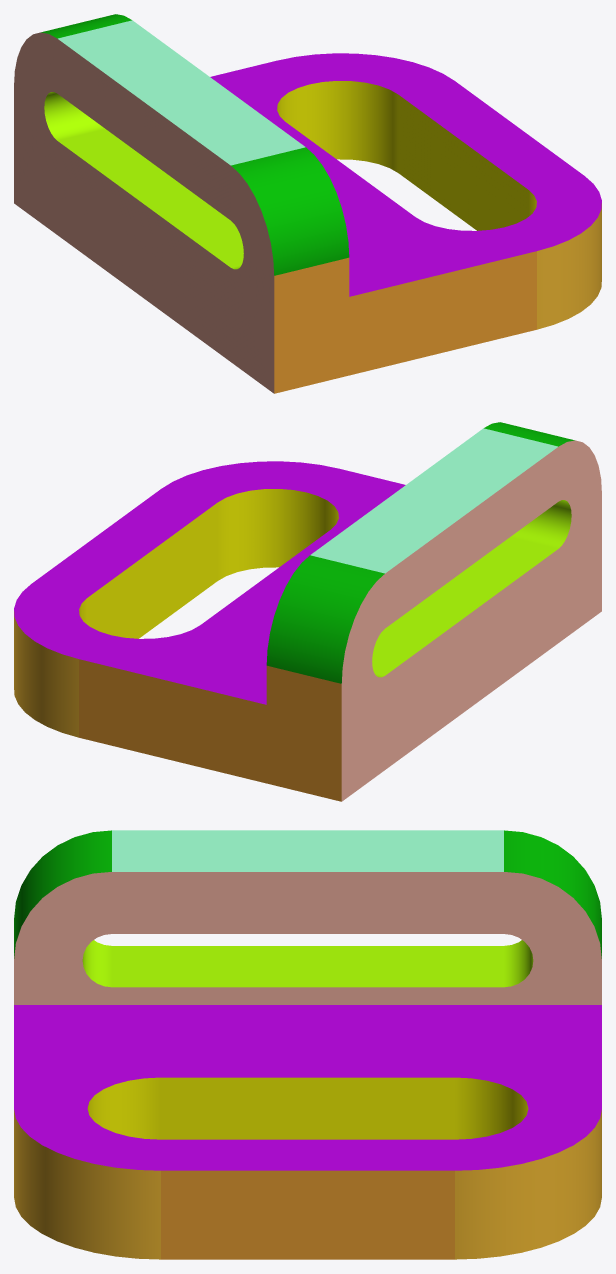
File: SOLIDWORKS_200_EXERCISES_ex002.glb
3 views of the same model, one above another, from view 1: azimuth 30°, elevation 25°; view 2: azimuth 150°, elevation 25°; view 3: azimuth 270°, elevation 25° (orthographic). The views are drawn at different scales.
Parts seen in each view (by area): view 1: 3DGeom-27, 3DGeom-22, 3DGeom-23, 3DGeom-26, 3DGeom-21, 3DGeom-24, 3DGeom-28, 3DGeom-25; view 2: 3DGeom-27, 3DGeom-22, 3DGeom-23, 3DGeom-26, 3DGeom-21, 3DGeom-24, 3DGeom-28, 3DGeom-25; view 3: 3DGeom-22, 3DGeom-27, 3DGeom-23, 3DGeom-25, 3DGeom-26, 3DGeom-28, 3DGeom-21, 3DGeom-24.
Part boxes in pixels (left/top/right/bottom): 3DGeom-27: left=14, top=32, right=274, bottom=393; 3DGeom-22: left=210, top=53, right=601, bottom=296; 3DGeom-23: left=274, top=251, right=536, bottom=393; 3DGeom-26: left=277, top=81, right=536, bottom=230; 3DGeom-21: left=58, top=20, right=305, bottom=165; 3DGeom-24: left=41, top=14, right=349, bottom=275; 3DGeom-28: left=44, top=92, right=243, bottom=269; 3DGeom-25: left=537, top=203, right=601, bottom=329; 3DGeom-27: left=341, top=440, right=601, bottom=801; 3DGeom-22: left=14, top=461, right=405, bottom=704; 3DGeom-23: left=79, top=659, right=341, bottom=801; 3DGeom-26: left=79, top=489, right=338, bottom=638; 3DGeom-21: left=310, top=428, right=557, bottom=573; 3DGeom-24: left=266, top=422, right=574, bottom=683; 3DGeom-28: left=372, top=500, right=571, bottom=677; 3DGeom-25: left=14, top=611, right=78, bottom=737; 3DGeom-22: left=14, top=1005, right=601, bottom=1170; 3DGeom-27: left=14, top=872, right=601, bottom=1004; 3DGeom-23: left=161, top=1170, right=454, bottom=1259; 3DGeom-25: left=14, top=1110, right=601, bottom=1259; 3DGeom-26: left=87, top=1077, right=528, bottom=1139; 3DGeom-28: left=82, top=940, right=533, bottom=987; 3DGeom-21: left=112, top=830, right=503, bottom=871; 3DGeom-24: left=14, top=830, right=601, bottom=958.
Bounding box in the file's own units: 0.1 × 0.05 × 0.12.
